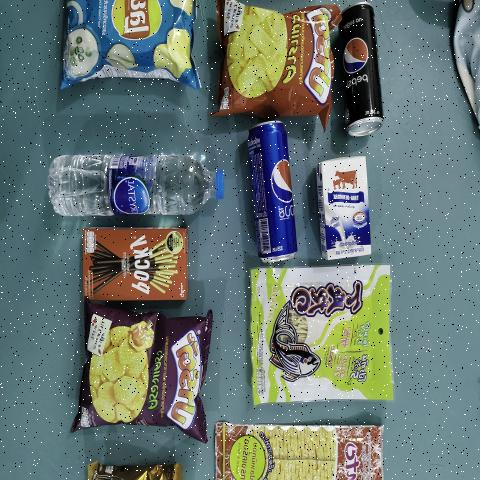crystal: (42, 144, 230, 221)
lay_blue: (66, 0, 198, 84)
party_purple: (92, 318, 191, 420)
party_red: (226, 10, 324, 108)
pepsi_black: (339, 1, 380, 140)
pepsi_blue: (247, 119, 299, 260)
pokki: (85, 228, 189, 299)
taro_yellow: (259, 271, 384, 396)
thai_denmark: (318, 162, 367, 250)
